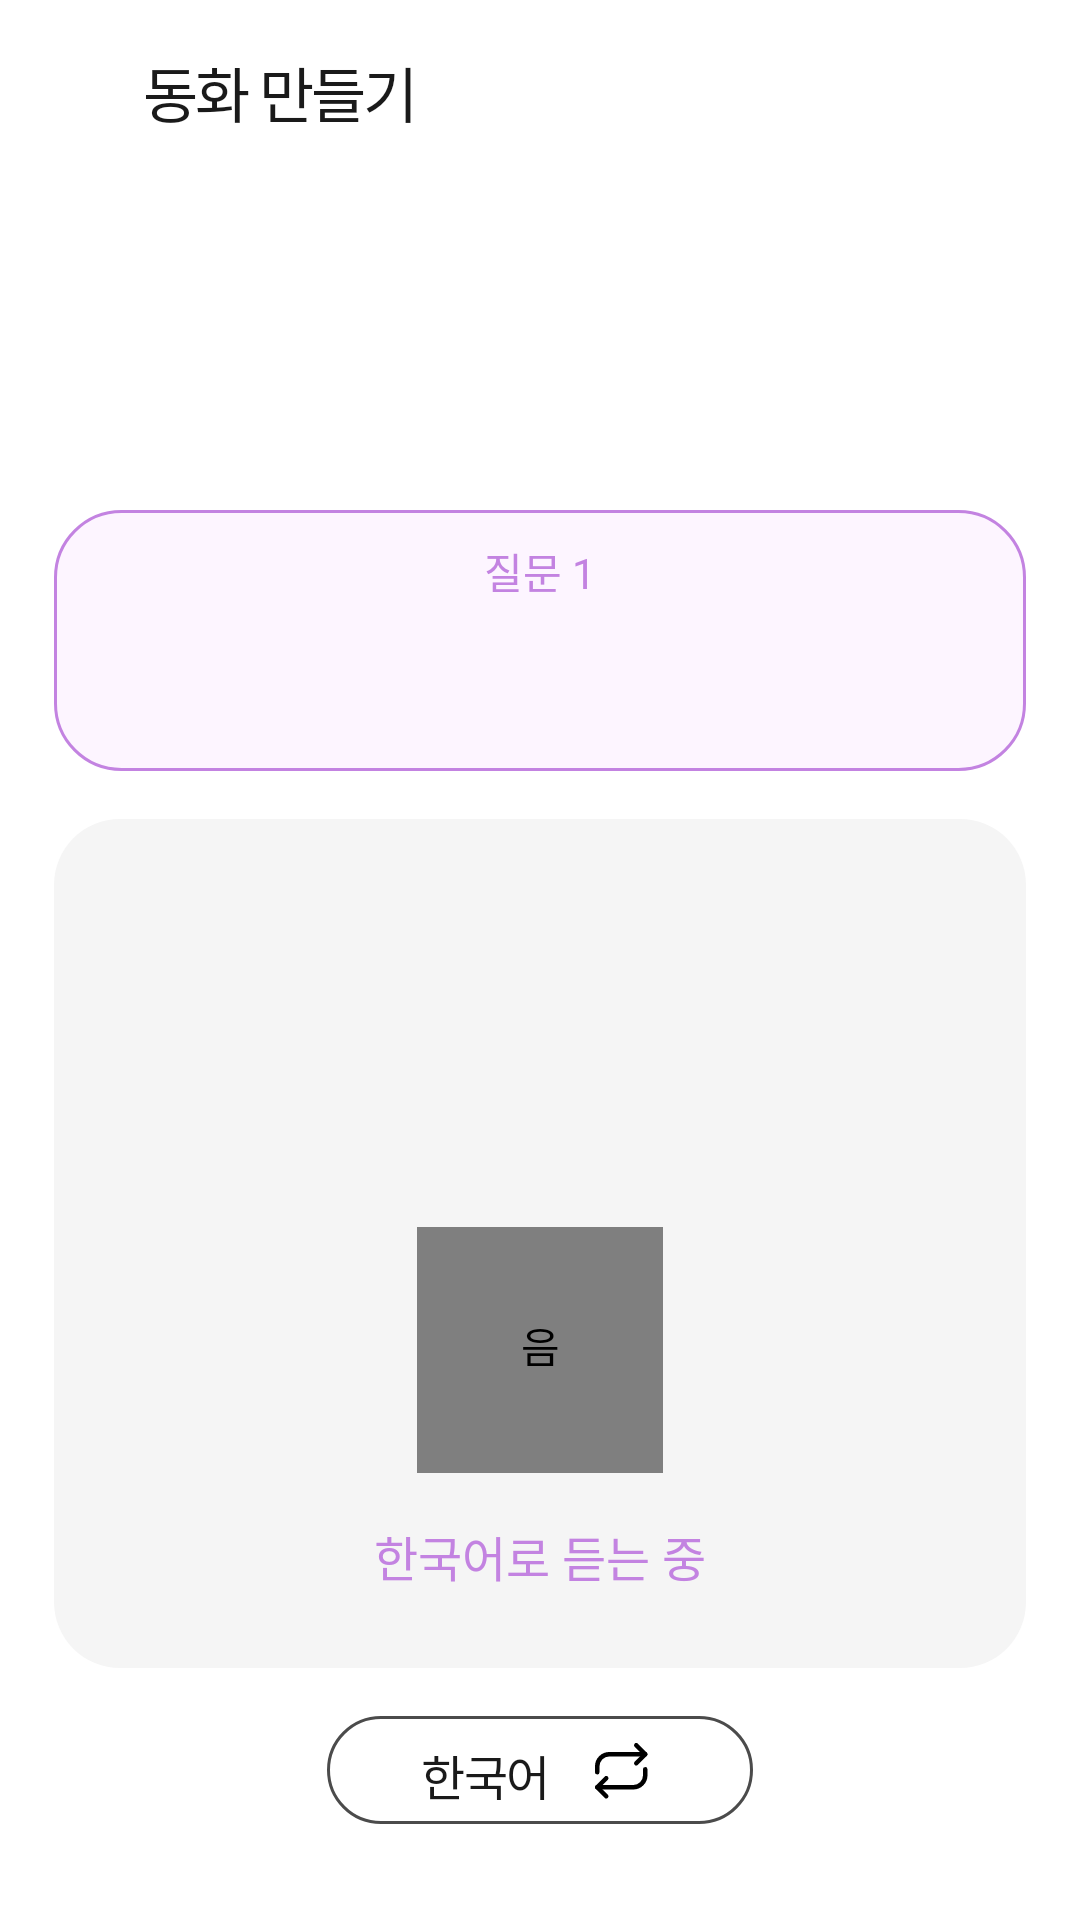

Screen size 1080 x 1920. Icon name, then its center in pixels as (x=x, y=y):
language switch: (x=621, y=1771)
